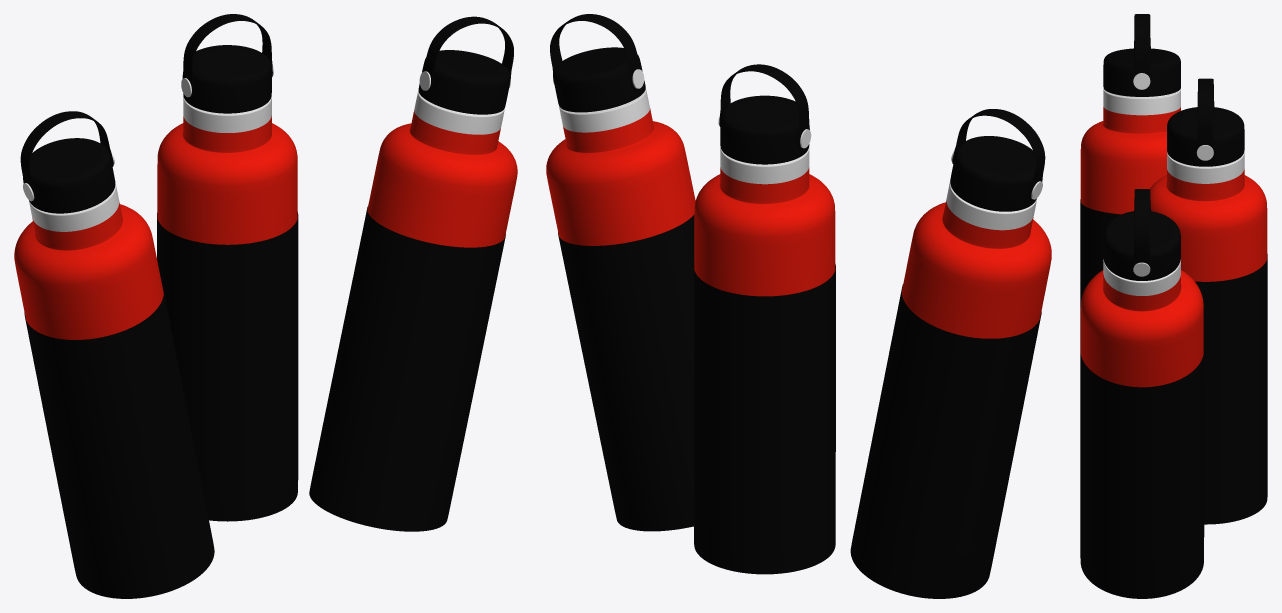
File: Steel A-5.glb
3 views of the same model, side by side, from view 1: azimuth 30°, elevation 25°; view 2: azimuth 150°, elevation 25°; view 3: azimuth 270°, elevation 25° (orthographic). The views are drawn at different scales.
Parts seen in each view (by area): view 1: Circle.014, Circle.009, Circle.011, Circle, Circle.002, Circle.012; view 2: Circle.011, Circle.009, Circle.014, Circle, Circle.002, Circle.012; view 3: Circle.014, Circle.012, Circle.011, Circle.002, Circle, Circle.009.
Boxes of the visible parts, x1,y1,x2,y2 form: Circle.014: (309, 206, 505, 531); Circle.009: (24, 286, 214, 598); Circle.011: (157, 212, 298, 521); Circle: (14, 111, 163, 339); Circle.002: (157, 14, 297, 244); Circle.012: (367, 16, 517, 247); Circle.011: (694, 264, 835, 574); Circle.009: (850, 284, 1041, 598); Circle.014: (558, 214, 694, 531); Circle: (901, 109, 1051, 338); Circle.002: (694, 64, 835, 296); Circle.012: (546, 14, 695, 245); Circle.014: (1080, 345, 1204, 598); Circle.012: (1080, 189, 1203, 387); Circle.011: (1195, 254, 1267, 524); Circle.002: (1150, 78, 1267, 281); Circle: (1080, 14, 1180, 214); Circle.009: (1080, 199, 1121, 346).
Bounding box in the file's own units: 7.95 × 7.87 × 3.03.
4 materials, 1 textured.
